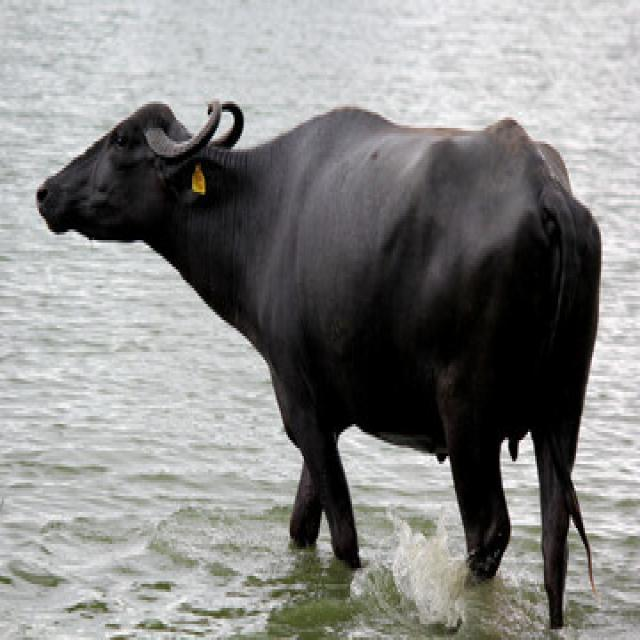Buffalo: (34, 91, 604, 629)
